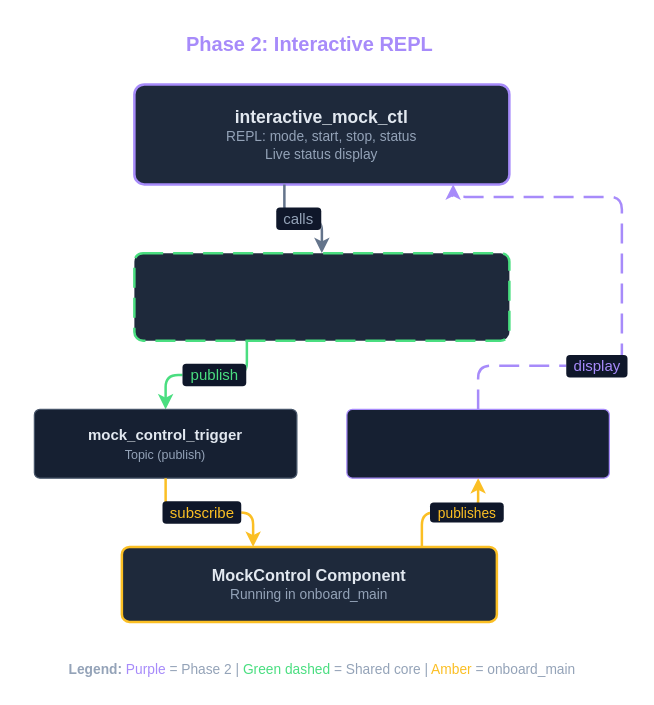
Some shapes in this 654 by 705 pixel diagram are drawn without their labels. Each missing label, with the box of its shape:
mock_control_status Topic (subscribe): (346, 408, 609, 478)
MockControlSender Same shared core (reused from Phase 1): (132, 251, 510, 341)
